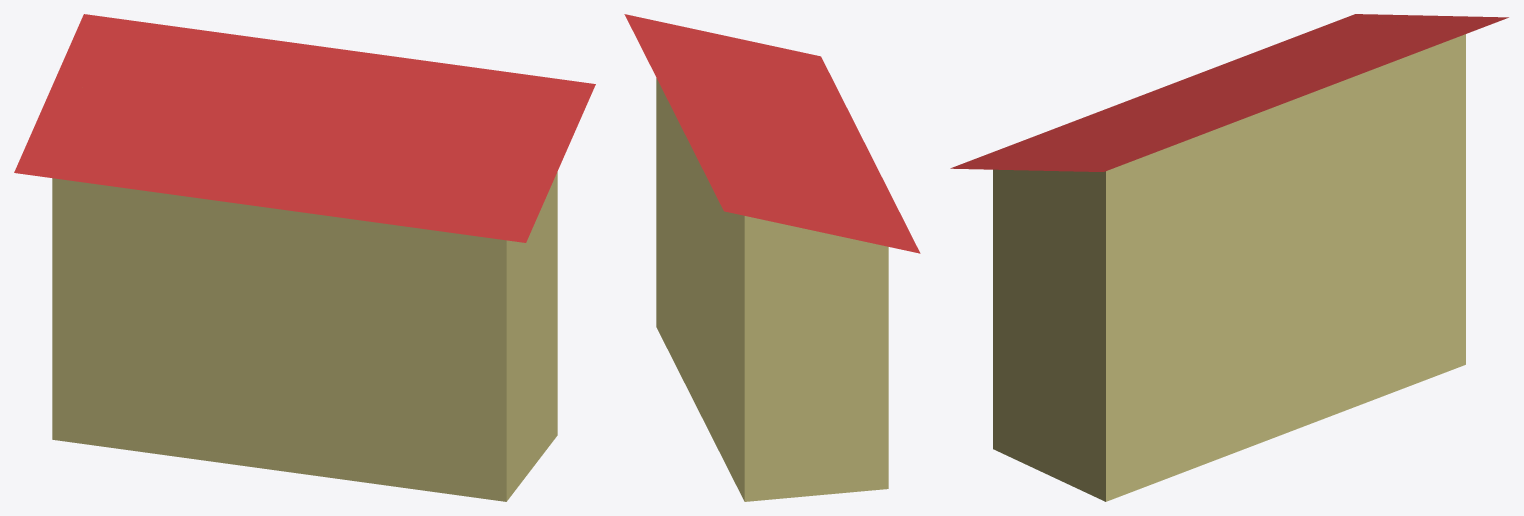
3 views of the same model, side by side, from view 1: azimuth 30°, elevation 25°; view 2: azimuth 150°, elevation 25°; view 3: azimuth 270°, elevation 25° (orthographic). The views are drawn at different scales.
Bounding box in the file's own units: 8.73 × 9.1 × 6.24.
